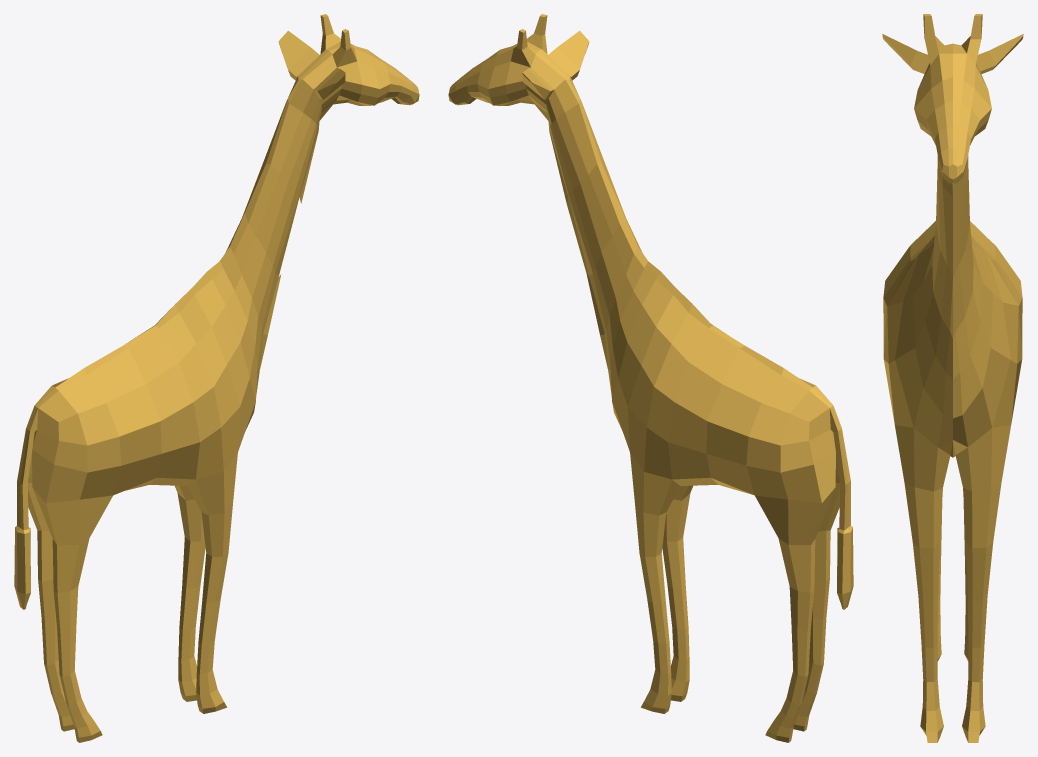
File: giraffe.glb
The picture shows the model from 3 angles, left to right: view 1: azimuth 30°, elevation 25°; view 2: azimuth 150°, elevation 25°; view 3: azimuth 270°, elevation 25°; orthographic projection. The views are drawn at different scales.
Visible parts, largest first — view 1: Plane; view 2: Plane; view 3: Plane.
Part boxes in pixels (x1,y1,x2,y2): Plane: [14, 14, 419, 742]; Plane: [448, 14, 853, 742]; Plane: [882, 14, 1023, 742].
Size of the model in its own units: 2.85 by 4.4 by 0.7046.
